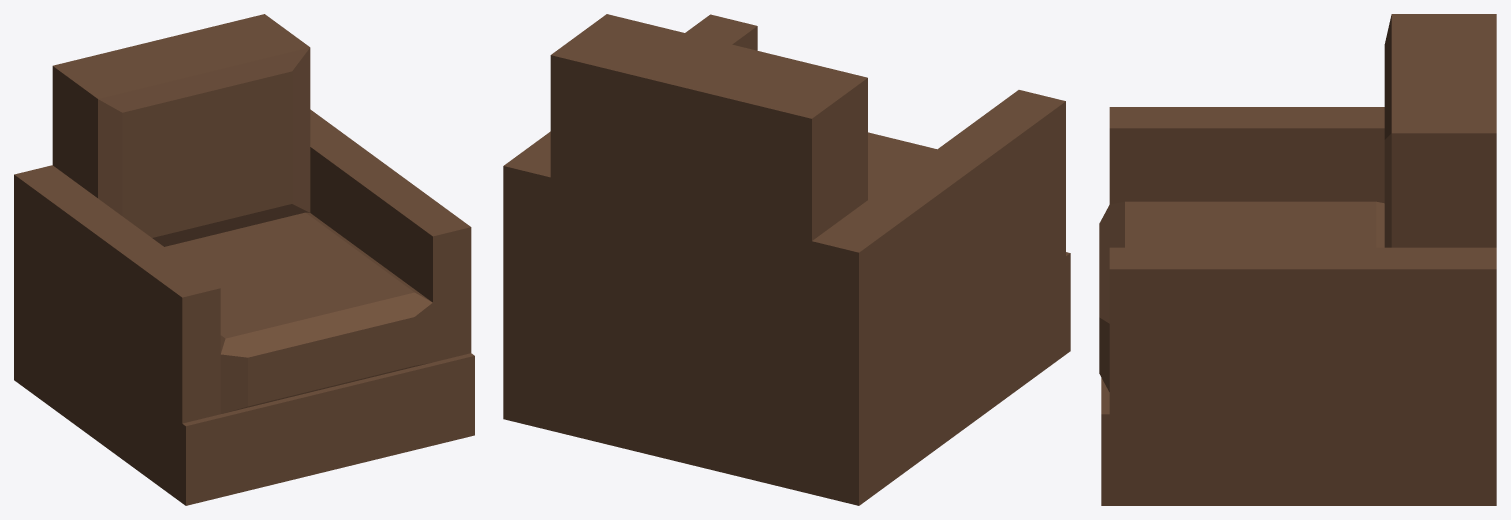
Rendered from Sofa3.fbx.
3 views of the same model, side by side, from view 1: azimuth 30°, elevation 25°; view 2: azimuth 150°, elevation 25°; view 3: azimuth 270°, elevation 25° (orthographic). The views are drawn at different scales.
Visible parts, largest first — view 1: Cube; view 2: Cube; view 3: Cube.
Boxes of the visible parts, bbox=[...] form: Cube: bbox=[14, 14, 474, 505]; Cube: bbox=[503, 14, 1070, 505]; Cube: bbox=[1099, 14, 1496, 505].
Size of the model in its own units: 1.36 by 1.37 by 1.41.
